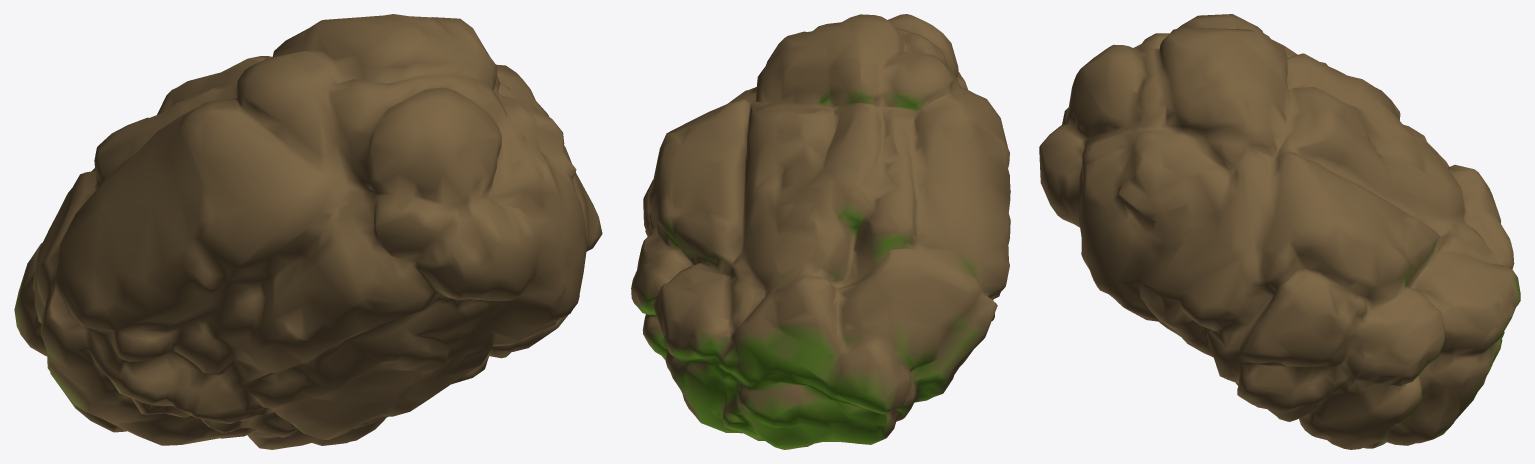
The model's file is cell_x2_z1_render.gltf.
The picture shows the model from 3 angles, left to right: view 1: azimuth 30°, elevation 25°; view 2: azimuth 150°, elevation 25°; view 3: azimuth 270°, elevation 25°; orthographic projection. The views are drawn at different scales.
Parts seen in each view (by area): view 1: SM_ENV_cliff_castle_01_LOD0.003; view 2: SM_ENV_cliff_castle_01_LOD0.003; view 3: SM_ENV_cliff_castle_01_LOD0.003.
Part boxes in pixels (x1,y1,x2,y2): SM_ENV_cliff_castle_01_LOD0.003: [14, 14, 602, 449]; SM_ENV_cliff_castle_01_LOD0.003: [631, 14, 1010, 449]; SM_ENV_cliff_castle_01_LOD0.003: [1039, 14, 1520, 449].
Size of the model in its own units: 54.13 by 51.99 by 56.99.
